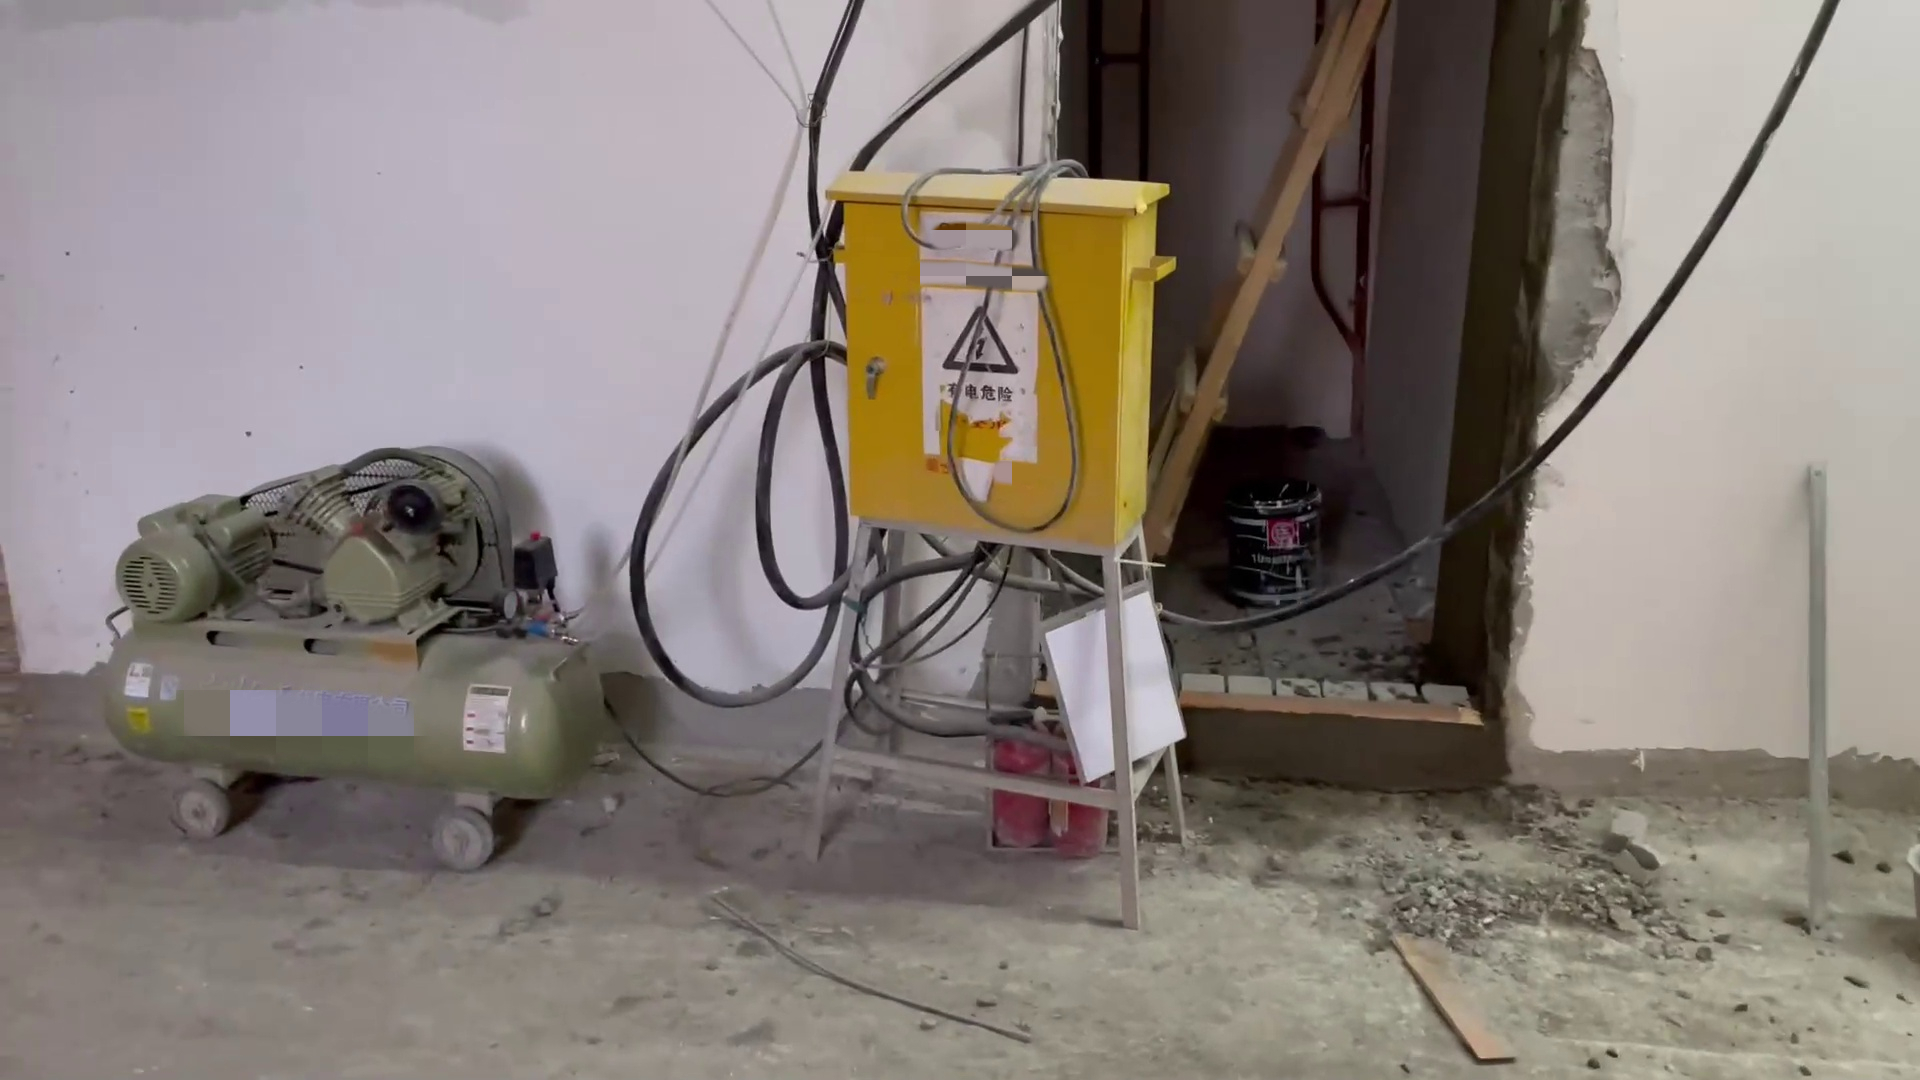ebox: (800, 145, 1200, 913)
